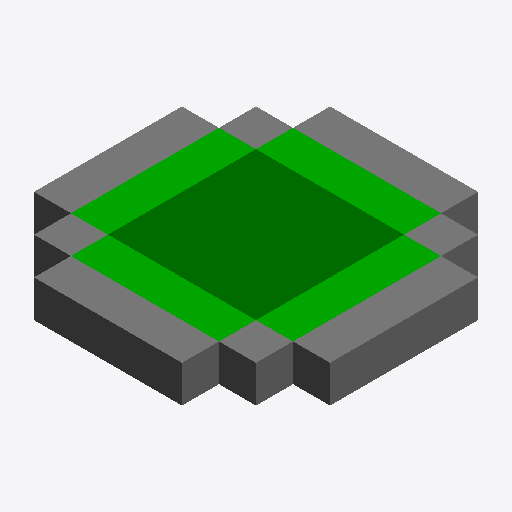
Isometric view (azimuth 45°, elevation 35.3°) of a Minecraft model made of 11 cuboids, textured from the same repository.
Visible parts, largest first — Gem1, Stone5, Stone7, Stone1, Stone3, Gem2, Gem3, Stone6, Stone4, Stone8, Stone2.
Boxes of the visible parts, <box> form: Gem1: <box>72,128,440,340</box>; Stone5: <box>293,256,477,404</box>; Stone7: <box>34,256,218,404</box>; Stone1: <box>34,107,217,233</box>; Stone3: <box>294,107,477,233</box>; Gem2: <box>71,128,254,233</box>; Gem3: <box>257,235,439,340</box>; Stone6: <box>219,320,292,404</box>; Stone4: <box>404,214,477,276</box>; Stone8: <box>34,214,107,276</box>; Stone2: <box>220,107,291,148</box>.
Size of the model in its own units: 8 by 1 by 8.